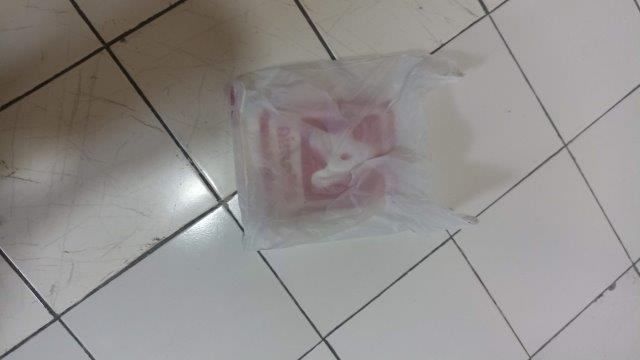plastik: (229, 53, 480, 243)
